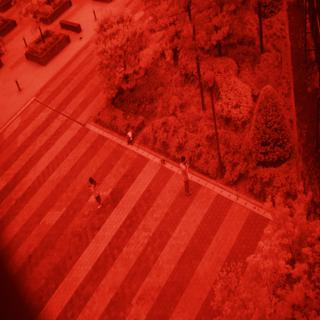person: (85, 172, 108, 215), (177, 151, 195, 199)
